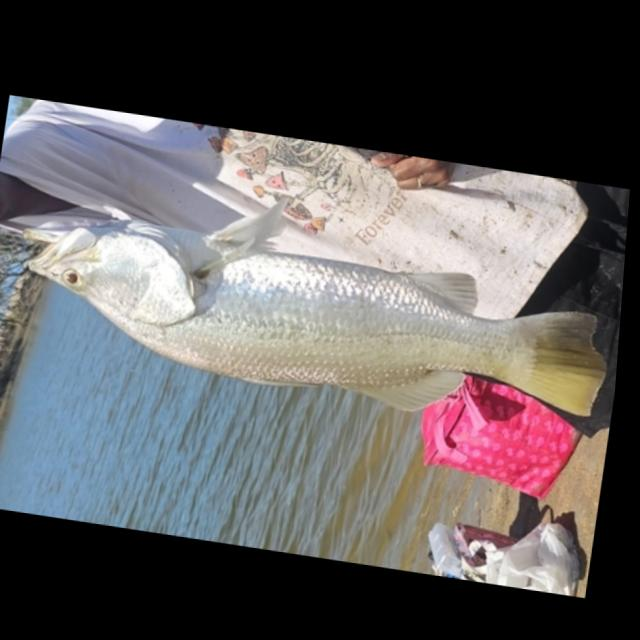Seabass: (6, 202, 619, 441)
